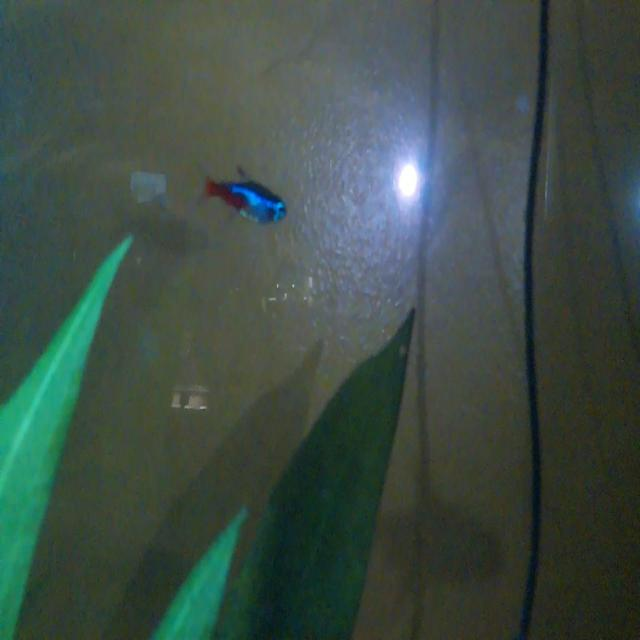fish: (206, 152, 292, 232)
